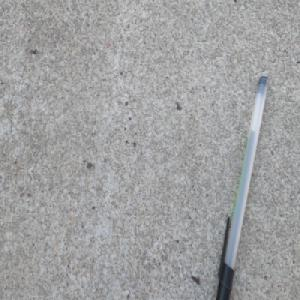Pen: (214, 70, 270, 300)
